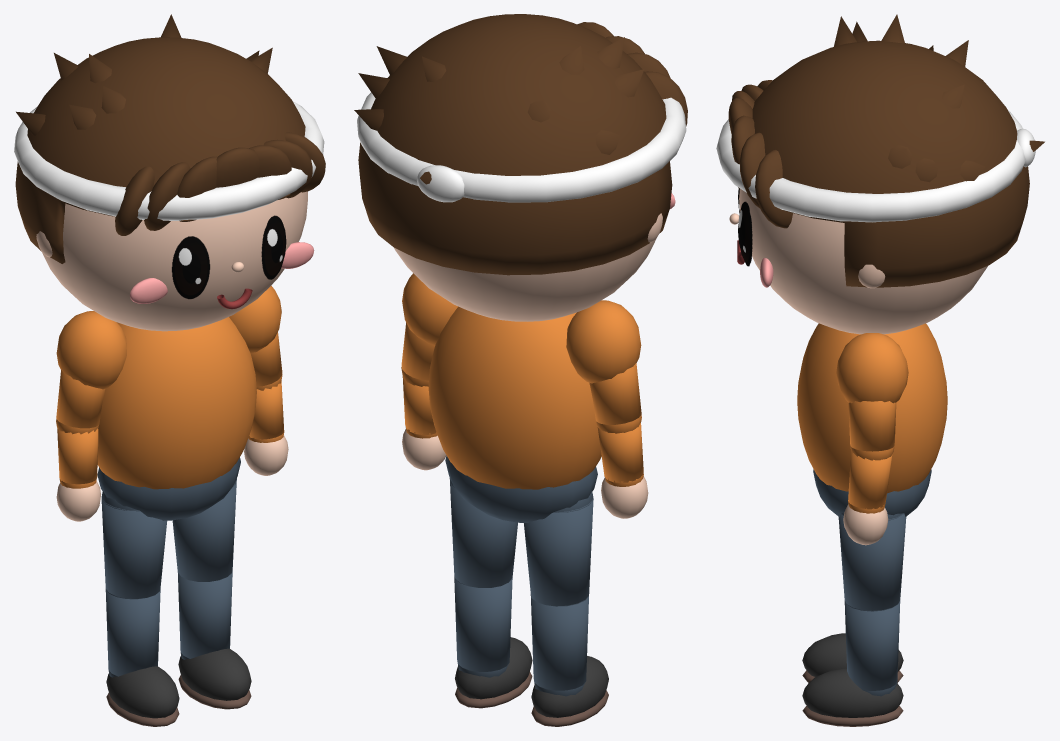
File: v_takumi.glb
3 views of the same model, side by side, from view 1: azimuth 30°, elevation 25°; view 2: azimuth 150°, elevation 25°; view 3: azimuth 270°, elevation 25° (orthographic). The views are drawn at different scales.
Visible parts, largest first — view 1: head, spine, shinR, shinL, upperArmR, thighR, thighL, pelvis, foreArmR, upperArmL, foreArmL; view 2: head, spine, shinR, shinL, upperArmR, thighR, thighL, pelvis, upperArmL, foreArmR, foreArmL; view 3: head, spine, shinL, upperArmL, thighL, foreArmL, pelvis, shinR.
Boxes of the visible parts, x1=… form: head: x1=14, y1=14, x2=325, y2=331; spine: x1=97, y1=317, x2=256, y2=489; shinR: x1=105, y1=588, x2=179, y2=726; shinL: x1=178, y1=570, x2=251, y2=709; upperArmR: x1=56, y1=311, x2=126, y2=434; thighR: x1=101, y1=491, x2=167, y2=598; thighL: x1=172, y1=478, x2=236, y2=581; pelvis: x1=97, y1=457, x2=240, y2=520; foreArmR: x1=56, y1=428, x2=100, y2=521; upperArmL: x1=229, y1=285, x2=282, y2=390; foreArmL: x1=244, y1=381, x2=288, y2=475; head: x1=354, y1=14, x2=687, y2=321; spine: x1=428, y1=306, x2=601, y2=489; shinR: x1=530, y1=594, x2=608, y2=726; shinL: x1=454, y1=575, x2=532, y2=708; upperArmR: x1=566, y1=300, x2=641, y2=433; thighR: x1=524, y1=491, x2=593, y2=606; thighL: x1=449, y1=478, x2=517, y2=587; pelvis: x1=445, y1=456, x2=597, y2=522; upperArmL: x1=401, y1=273, x2=457, y2=386; foreArmR: x1=597, y1=423, x2=648, y2=518; foreArmL: x1=402, y1=377, x2=446, y2=470; head: x1=716, y1=14, x2=1044, y2=334; spine: x1=797, y1=323, x2=947, y2=493; shinL: x1=802, y1=600, x2=903, y2=726; upperArmL: x1=836, y1=333, x2=908, y2=460; thighL: x1=838, y1=513, x2=906, y2=610; foreArmL: x1=843, y1=450, x2=892, y2=545; pelvis: x1=813, y1=469, x2=931, y2=516; shinR: x1=802, y1=633, x2=903, y2=682.
Size of the model in its own units: 0.5609 by 1.3 by 0.5915.
Materials: 11 (1 with a texture image).
